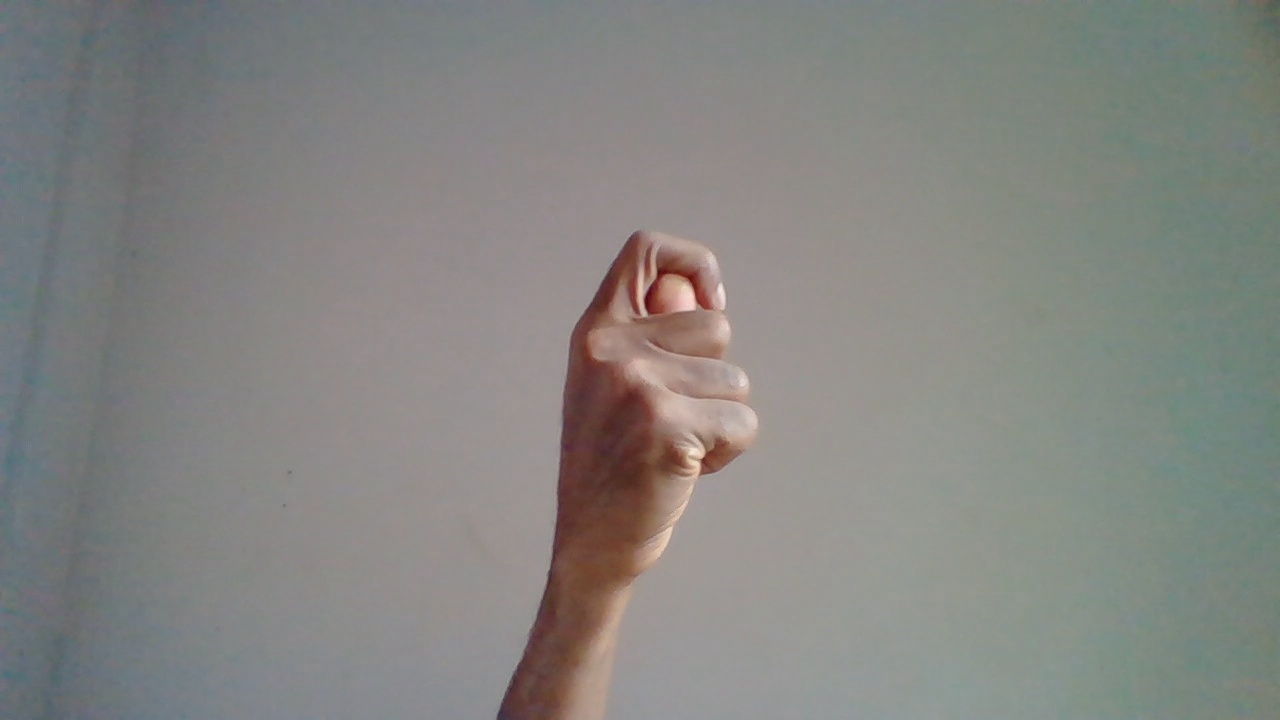che: (552, 229, 766, 701)
